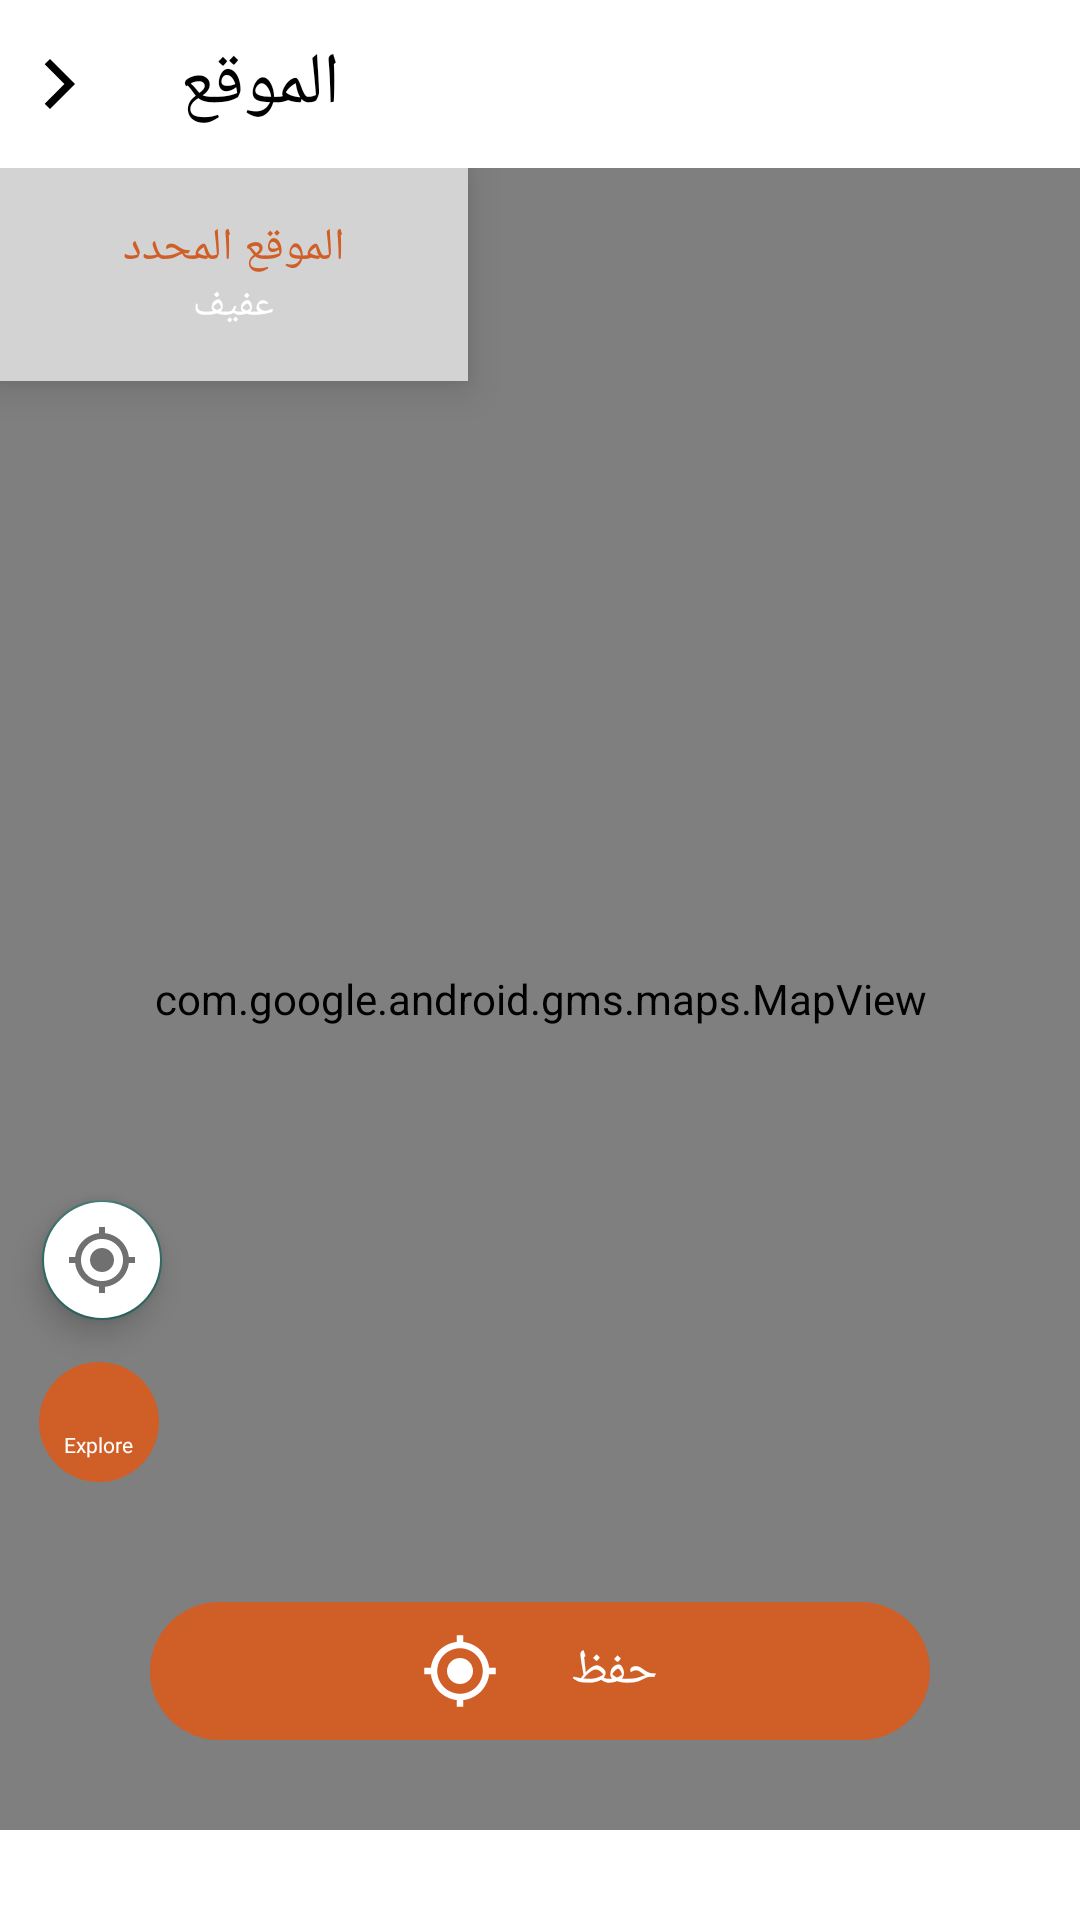

Named icons in this screenshot (1080*1920) and their centers, point (x, y):
arrow forward: point (60, 84)
location: point (102, 1260), point (460, 1671)
